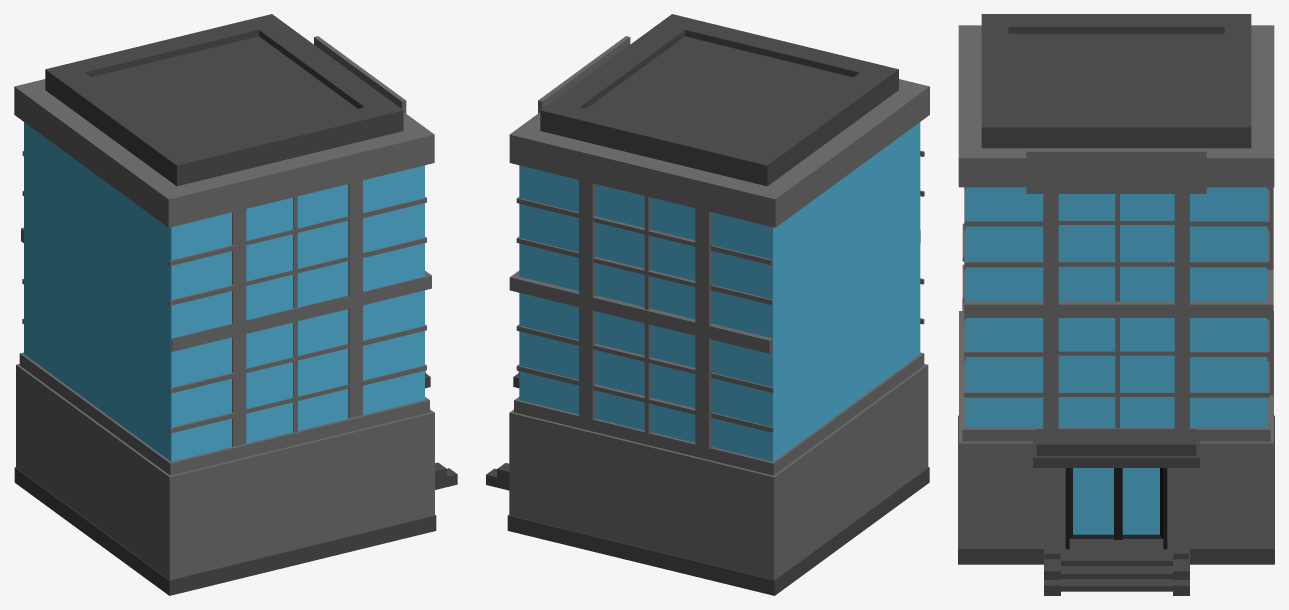
The model's file is edificio1.fbx.
3 views of the same model, side by side, from view 1: azimuth 30°, elevation 25°; view 2: azimuth 150°, elevation 25°; view 3: azimuth 270°, elevation 25° (orthographic). The views are drawn at different scales.
Visible parts, largest first — view 1: Cube.064, Cube.059, Cube.063, Cube.065, Cube.142, Cube.060, Cube.062, Cube.144, Cube.143, Cube.090; view 2: Cube.064, Cube.059, Cube.063, Cube.065, Cube.040, Cube.060, Cube.062, Cube.056, Cube.061, Cube.090; view 3: Cube.064, Cube.063, Cube.059, Cube.080, Cube.065, Cube.090, Cube.074, Cube.066, Cube.060, Cube.062, Cube.075, Cube.069 (+16 smaller).
Boxes of the visible parts, left/top/right/bottom form: Cube.064: left=24, top=122, right=424, bottom=461; Cube.059: left=16, top=364, right=434, bottom=579; Cube.063: left=45, top=14, right=403, bottom=186; Cube.065: left=14, top=79, right=434, bottom=227; Cube.142: left=171, top=180, right=431, bottom=446; Cube.060: left=14, top=467, right=436, bottom=595; Cube.062: left=19, top=352, right=429, bottom=475; Cube.144: left=246, top=321, right=348, bottom=432; Cube.143: left=246, top=196, right=348, bottom=308; Cube.090: left=314, top=36, right=406, bottom=113; Cube.064: left=519, top=122, right=920, bottom=461; Cube.059: left=509, top=364, right=928, bottom=579; Cube.063: left=540, top=14, right=898, bottom=186; Cube.065: left=509, top=79, right=929, bottom=227; Cube.040: left=509, top=180, right=772, bottom=448; Cube.060: left=507, top=467, right=929, bottom=595; Cube.062: left=514, top=352, right=924, bottom=475; Cube.056: left=593, top=196, right=695, bottom=309; Cube.061: left=593, top=323, right=695, bottom=437; Cube.090: left=538, top=36, right=630, bottom=113; Cube.064: left=965, top=187, right=1267, bottom=427; Cube.063: left=981, top=14, right=1251, bottom=148; Cube.059: left=959, top=311, right=1273, bottom=548; Cube.080: left=965, top=194, right=1269, bottom=430; Cube.065: left=958, top=25, right=1274, bottom=187; Cube.090: left=1026, top=149, right=1206, bottom=193; Cube.074: left=1065, top=468, right=1167, bottom=549; Cube.066: left=1036, top=429, right=1196, bottom=455; Cube.060: left=958, top=415, right=1274, bottom=564; Cube.062: left=962, top=300, right=1270, bottom=441; Cube.075: left=1033, top=441, right=1199, bottom=467; Cube.069: left=1061, top=549, right=1172, bottom=565.
Bounding box in the file's own units: 781 × 941 × 633.
